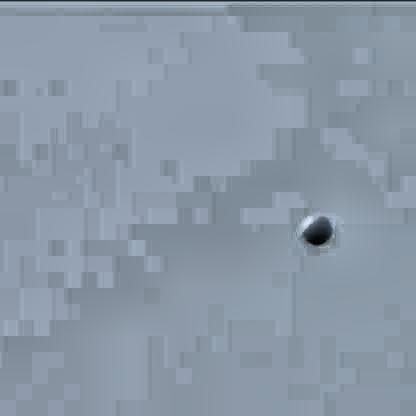golfball: (299, 209, 329, 240)
